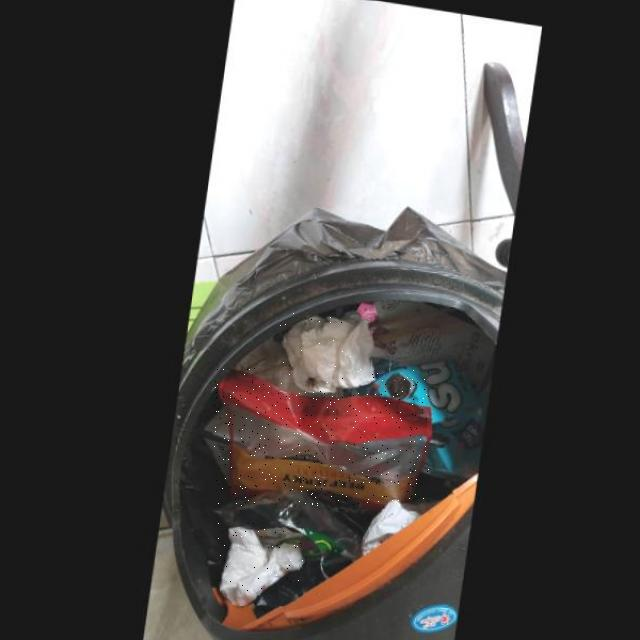paper: (280, 307, 371, 391), (217, 523, 303, 605)
wrapper: (214, 367, 429, 506)
